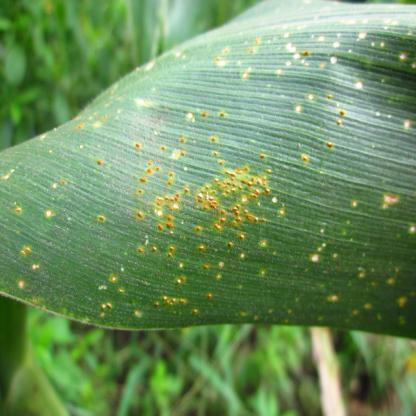Corn rust leaf: (2, 6, 416, 341)
